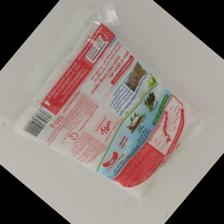Ajinomoto: (16, 21, 202, 210)
